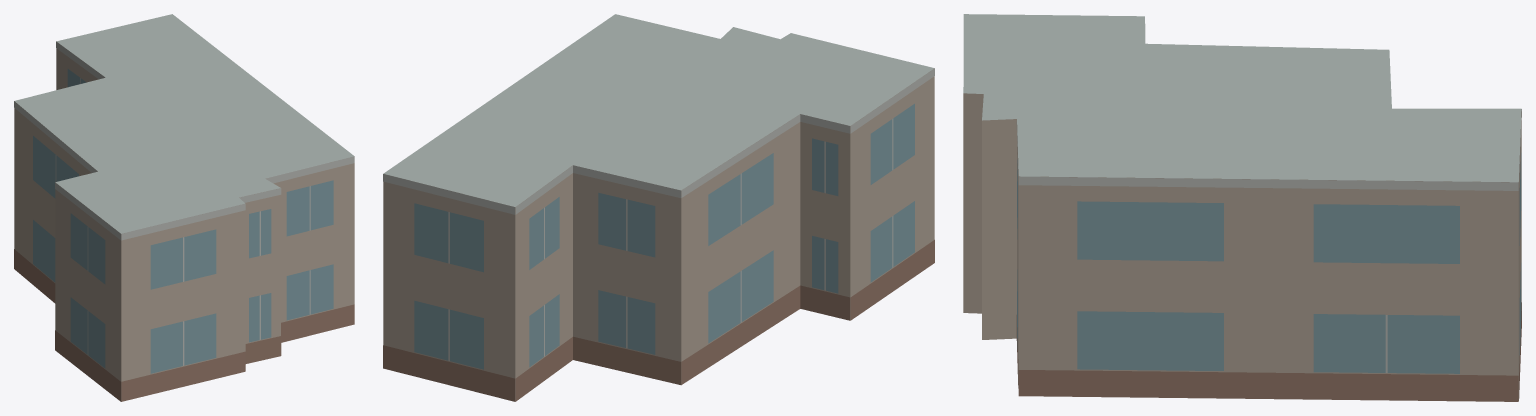
Rendered from survey-upis-33028714.glb.
3 views of the same model, side by side, from view 1: azimuth 30°, elevation 25°; view 2: azimuth 150°, elevation 25°; view 3: azimuth 270°, elevation 25° (orthographic). The views are drawn at different scales.
Visible parts, largest first — view 1: survey-upis-33028714.tmp; view 2: survey-upis-33028714.tmp; view 3: survey-upis-33028714.tmp.
Part boxes in pixels (box(x1,y1,x2,y2)): survey-upis-33028714.tmp: box(14, 14, 354, 401); survey-upis-33028714.tmp: box(383, 14, 934, 401); survey-upis-33028714.tmp: box(963, 14, 1521, 401).
Bounding box in the file's own units: 10.03 × 6.1 × 14.06.
